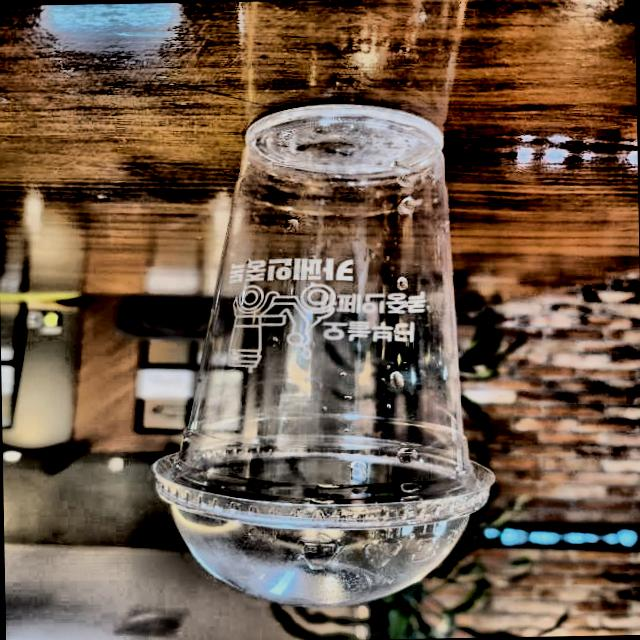plastic cup: (106, 74, 508, 625)
